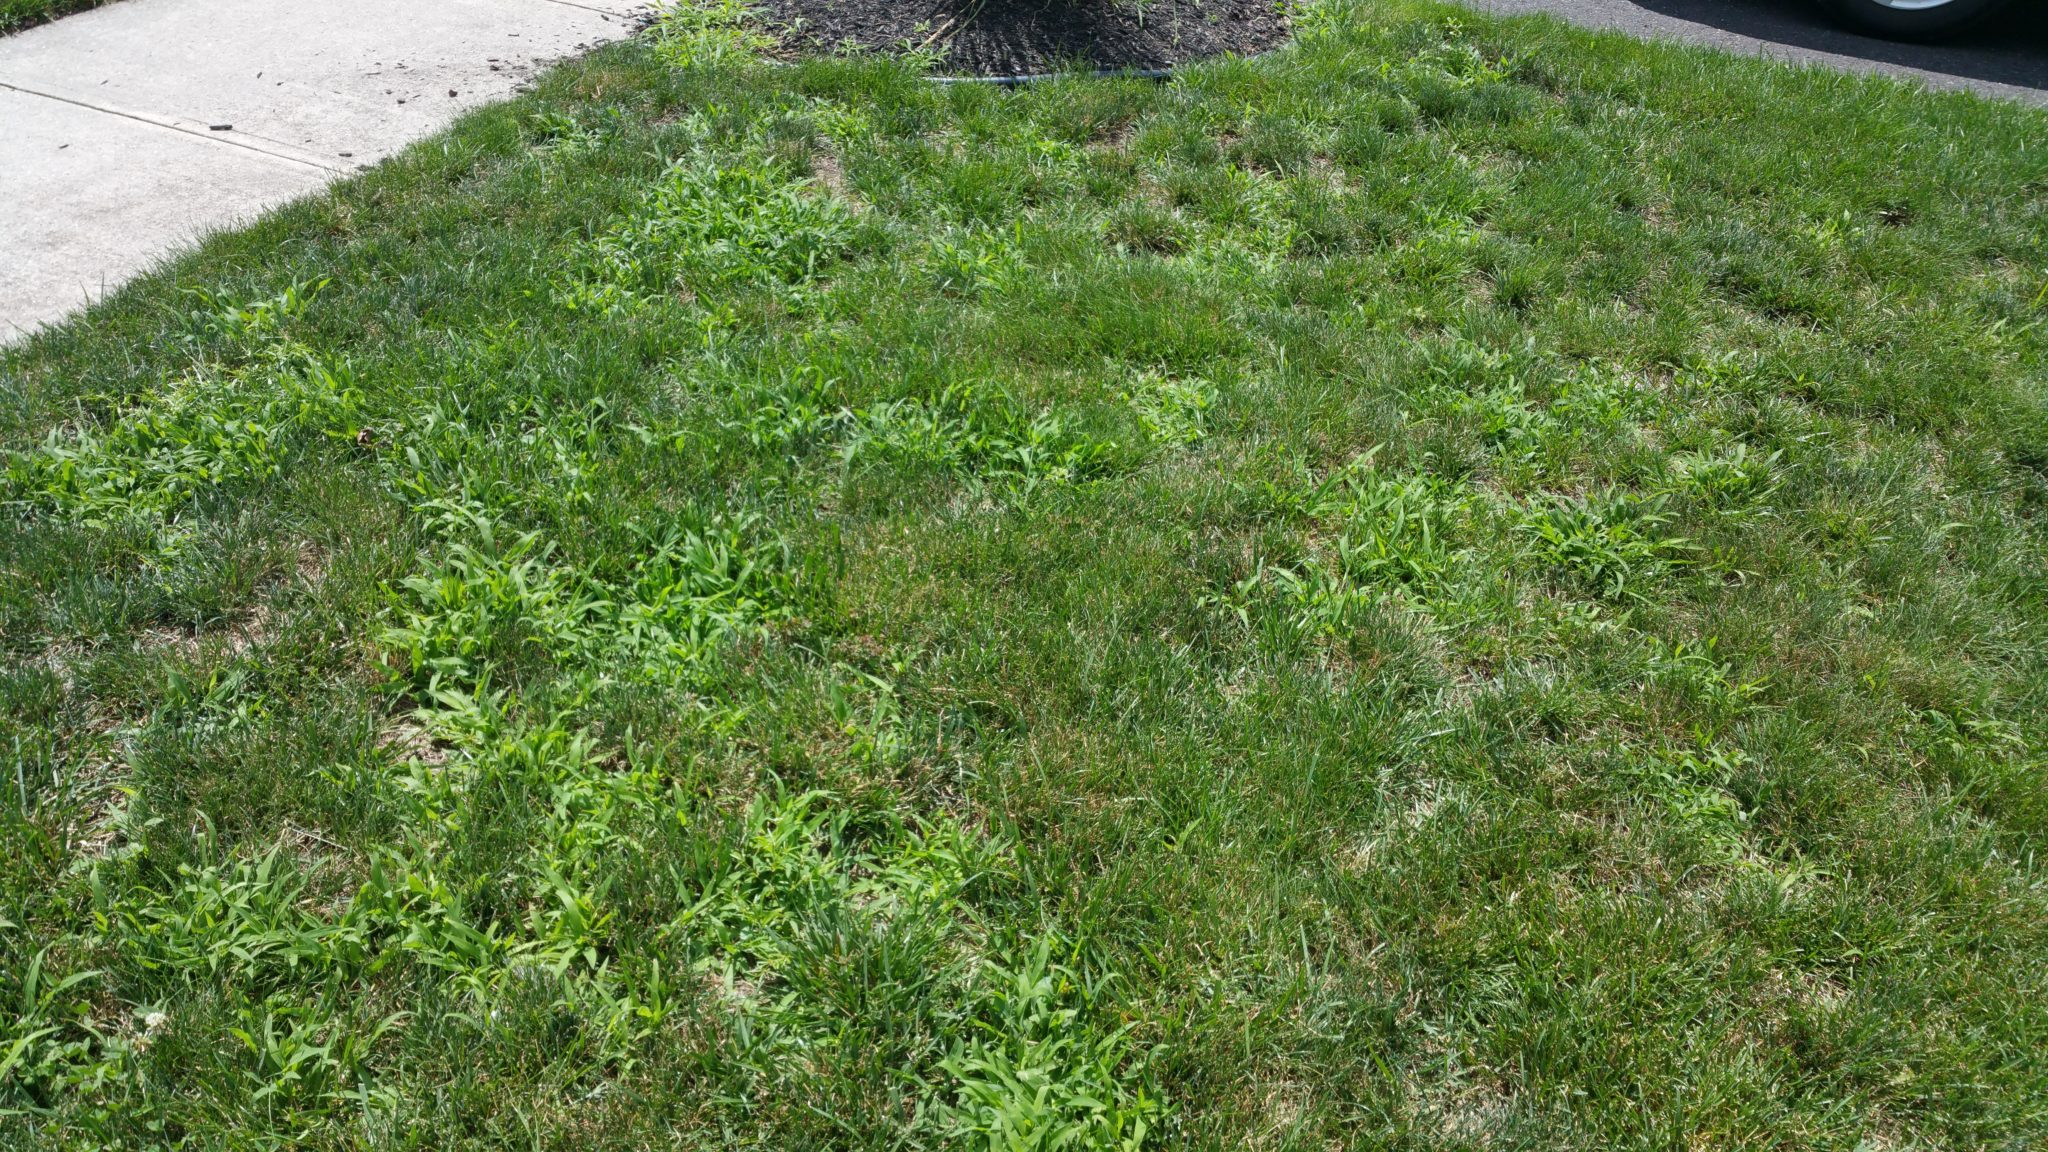crabgrass: (376, 620, 663, 973), (558, 108, 883, 305), (919, 934, 1137, 1152), (90, 311, 335, 505), (1317, 390, 1499, 625), (79, 833, 343, 975), (896, 373, 1152, 506), (729, 800, 983, 927), (1530, 460, 1684, 627), (6, 999, 167, 1121)
